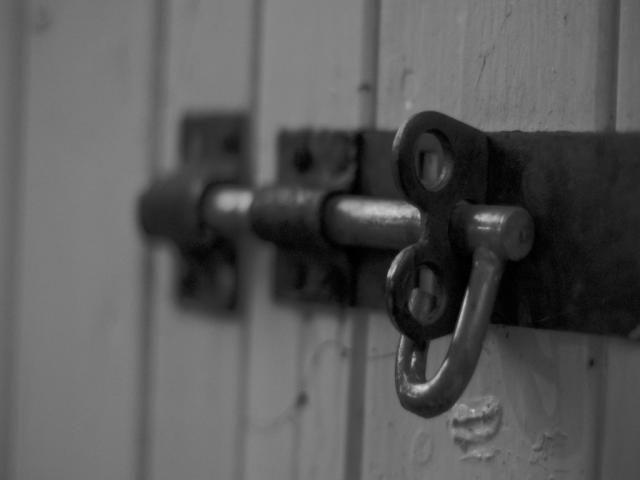Door-handle: (132, 108, 640, 415)
